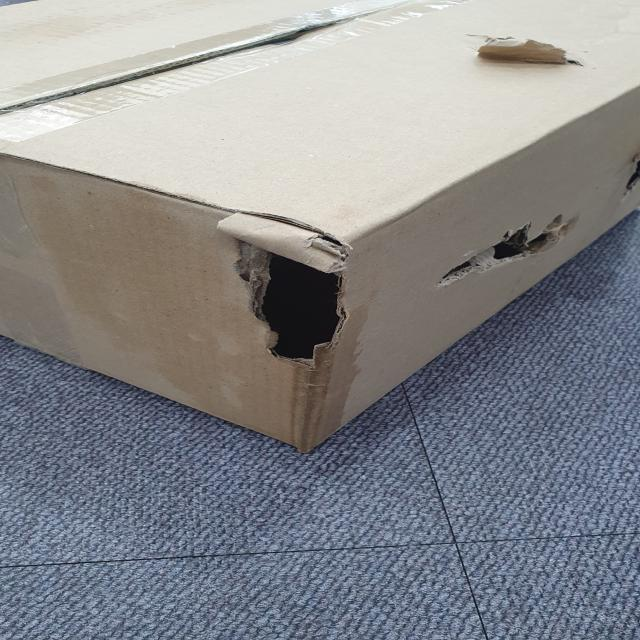hole: (212, 211, 360, 372), (439, 211, 579, 284), (614, 148, 640, 201)
